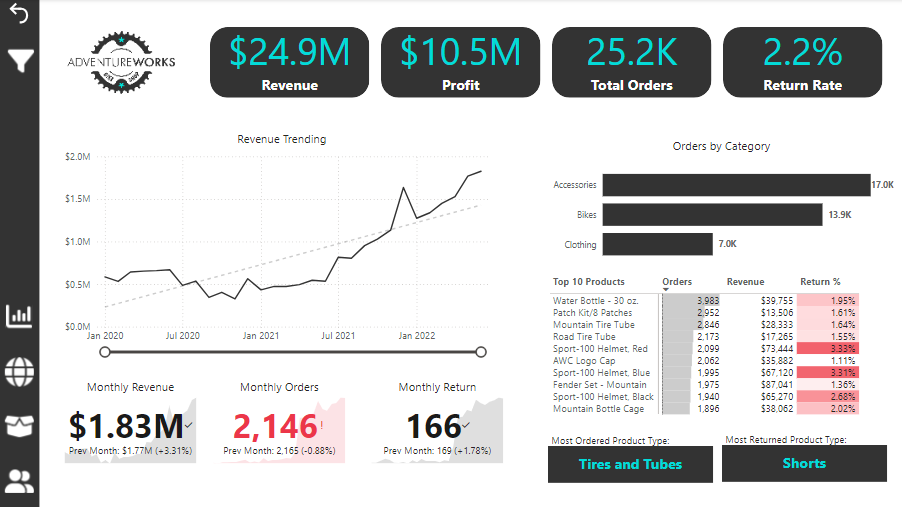

This screenshot's page, from the dashboard's own definition file:
{"tool":"powerbi","page":{"name":"Exec Dashboard","canvas":[1280,720],"ordinal":0},"visuals":[{"type":"shape","title":"Pages Navigator","box":[0,0,55.7,720.6],"z":0},{"type":"card","title":"Revenue","fields":{"Values":["_measures.Revenue"]},"box":[312.5,20,194.1,128.4],"z":0,"group":"g2"},{"type":"group","id":"g1","title":"KPI Backgrounds","box":[296.8,40,950.4,100],"z":0,"group":"g3"},{"type":"shape","title":"Revenue","box":[296.8,40,225,100],"z":0,"group":"g1"},{"type":"actionButton","title":"Exec Button","box":[5.5,416.5,45.2,63.5],"z":0,"group":"g4"},{"type":"group","id":"g2","title":"KPI Values","box":[312.5,20,919,128.4],"z":1000,"group":"g3"},{"type":"card","title":"Profit","fields":{"Values":["_measures.Profit"]},"box":[554.1,20,194.1,128.4],"z":1000,"group":"g2"},{"type":"image","title":"AW_Logo","box":[70.6,38.1,201.9,103.1],"z":1000},{"type":"shape","title":"Profit","box":[538.1,40,225.5,99.9],"z":1000,"group":"g1"},{"type":"actionButton","title":"Map Button","box":[3.4,499.3,49.4,53.6],"z":1000,"group":"g4"},{"type":"group","id":"g3","title":"KPIS","box":[296.8,20,950.4,128.4],"z":2000},{"type":"card","title":"Total Orders","fields":{"Values":["_measures.Total Orders"]},"box":[795.8,20,194.1,128.4],"z":2000,"group":"g2"},{"type":"shape","title":"Total Orders","box":[779.9,40,225.5,99.9],"z":2000,"group":"g1"},{"type":"actionButton","title":"Product Button","box":[3.4,572.3,49.4,63.5],"z":2000,"group":"g4"},{"type":"card","title":"Return Rate","fields":{"Values":["_measures.Return Rate"]},"box":[1037.4,20,194.1,128.4],"z":3000,"group":"g2"},{"type":"shape","title":"Return Rate","box":[1021.7,40,225.5,99.9],"z":3000,"group":"g1"},{"type":"lineChart","title":"Revenue Trending","fields":{"Y":["_measures.Revenue"],"Category":["Calendar Lookup.Year","Calendar Lookup.Start of Quarter","Calendar Lookup.Start of Month"]},"box":[86.1,186.4,624,323.3],"z":3000},{"type":"actionButton","title":"Customer Button","box":[3.4,655.1,49.4,50.8],"z":3000,"group":"g4"},{"type":"kpi","title":"Monthly Revenue","fields":{"Indicator":["_measures.Revenue"],"TrendLine":["Calendar Lookup.Date Hierarchy.Start of Month"],"Goal":["_measures.Revenue Last Month"]},"box":[86.1,536.5,196.2,124.2],"z":4000},{"type":"kpi","title":"Monthly Orders","fields":{"TrendLine":["Calendar Lookup.Date Hierarchy.Start of Month"],"Indicator":["_measures.Total Orders"],"Goal":["_measures.Total Orders Last Month"]},"box":[296.5,536.5,196,124.2],"z":5000},{"type":"kpi","title":"Monthly Return","fields":{"TrendLine":["Calendar Lookup.Date Hierarchy.Start of Month"],"Indicator":["_measures.Total Returns"],"Goal":["_measures.Total Returns Last Month"]},"box":[519.5,536.5,196,124.2],"z":6000},{"type":"barChart","title":"Orders by Category","fields":{"Category":["Product Category Lookup.CategoryName"],"Y":["_measures.Total Orders"]},"box":[770.8,196.2,495.5,189.2],"z":7000},{"type":"pivotTable","fields":{"Rows":["Product Lookup.ProductName"],"Values":["_measures.Total Orders","_measures.Revenue","_measures.Return Rate"]},"box":[770.8,385.4,495.5,213.2],"z":8000},{"type":"card","title":"Most Ordered Product Type-Card","fields":{"Values":["Min(Product Subcategory Lookup.SubcategoryName)"]},"box":[773.6,631.1,232.9,52.2],"z":9000},{"type":"textbox","title":"Most Ordered Product Type-Text","box":[773.6,609.9,210.4,35.3],"z":10000},{"type":"card","title":"Most Returned Product Type-Card","fields":{"Values":["Min(Product Subcategory Lookup.SubcategoryName)"]},"box":[1019.4,629.8,232.9,52.2],"z":11000},{"type":"textbox","title":"Most Returned Product Type-Text","box":[1019.4,608.6,210.4,35.3],"z":12000},{"type":"actionButton","title":"Clear Filters","box":[7.1,0,42.4,39.5],"z":13000},{"type":"group","id":"g4","title":"Navigation tabs","box":[3.4,416.5,49.4,289.4],"z":14000},{"type":"actionButton","title":"Filter Panel","box":[7.1,64.9,48,45.2],"z":15000}]}

Visuals, with their boxes on the page's 1280x720 design canvas (x1, y1, x2, y2). These are canvas units, not pixel positions in the 902x507 screenshot, which may show the page scaled, cropped or inside an application window:
"Pages Navigator" shape: {"left": 0, "top": 0, "right": 56, "bottom": 721}
"Revenue" card: {"left": 312, "top": 20, "right": 507, "bottom": 148}
"KPI Backgrounds" group: {"left": 297, "top": 40, "right": 1247, "bottom": 140}
"Revenue" shape: {"left": 297, "top": 40, "right": 522, "bottom": 140}
"Exec Button" actionButton: {"left": 6, "top": 416, "right": 51, "bottom": 480}
"KPI Values" group: {"left": 312, "top": 20, "right": 1232, "bottom": 148}
"Profit" card: {"left": 554, "top": 20, "right": 748, "bottom": 148}
"AW_Logo" image: {"left": 71, "top": 38, "right": 272, "bottom": 141}
"Profit" shape: {"left": 538, "top": 40, "right": 764, "bottom": 140}
"Map Button" actionButton: {"left": 3, "top": 499, "right": 53, "bottom": 553}
"KPIS" group: {"left": 297, "top": 20, "right": 1247, "bottom": 148}
"Total Orders" card: {"left": 796, "top": 20, "right": 990, "bottom": 148}
"Total Orders" shape: {"left": 780, "top": 40, "right": 1005, "bottom": 140}
"Product Button" actionButton: {"left": 3, "top": 572, "right": 53, "bottom": 636}
"Return Rate" card: {"left": 1037, "top": 20, "right": 1232, "bottom": 148}
"Return Rate" shape: {"left": 1022, "top": 40, "right": 1247, "bottom": 140}
"Revenue Trending" lineChart: {"left": 86, "top": 186, "right": 710, "bottom": 510}
"Customer Button" actionButton: {"left": 3, "top": 655, "right": 53, "bottom": 706}
"Monthly Revenue" kpi: {"left": 86, "top": 536, "right": 282, "bottom": 661}
"Monthly Orders" kpi: {"left": 296, "top": 536, "right": 492, "bottom": 661}
"Monthly Return" kpi: {"left": 520, "top": 536, "right": 716, "bottom": 661}
"Orders by Category" barChart: {"left": 771, "top": 196, "right": 1266, "bottom": 385}
pivotTable - Product Lookup.ProductName x _measures.Total Orders: {"left": 771, "top": 385, "right": 1266, "bottom": 599}
"Most Ordered Product Type-Card" card: {"left": 774, "top": 631, "right": 1006, "bottom": 683}
"Most Ordered Product Type-Text" textbox: {"left": 774, "top": 610, "right": 984, "bottom": 645}
"Most Returned Product Type-Card" card: {"left": 1019, "top": 630, "right": 1252, "bottom": 682}
"Most Returned Product Type-Text" textbox: {"left": 1019, "top": 609, "right": 1230, "bottom": 644}
"Clear Filters" actionButton: {"left": 7, "top": 0, "right": 50, "bottom": 40}
"Navigation tabs" group: {"left": 3, "top": 416, "right": 53, "bottom": 706}
"Filter Panel" actionButton: {"left": 7, "top": 65, "right": 55, "bottom": 110}
